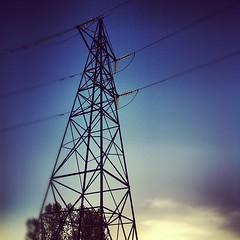power_tower: (31, 12, 140, 240)
